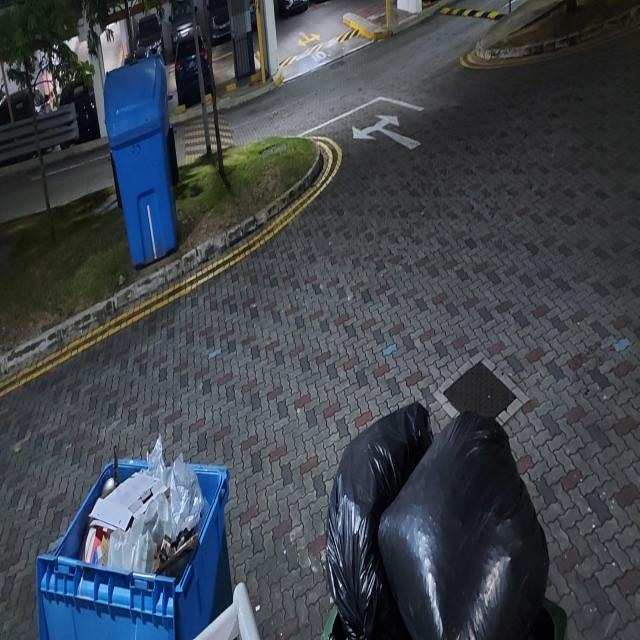bin_empty: (102, 55, 178, 269)
bin_full: (39, 464, 234, 639)
normal_waste: (378, 406, 544, 636), (328, 391, 430, 598), (106, 498, 165, 576), (170, 452, 204, 536), (154, 525, 198, 584), (146, 433, 172, 488)
